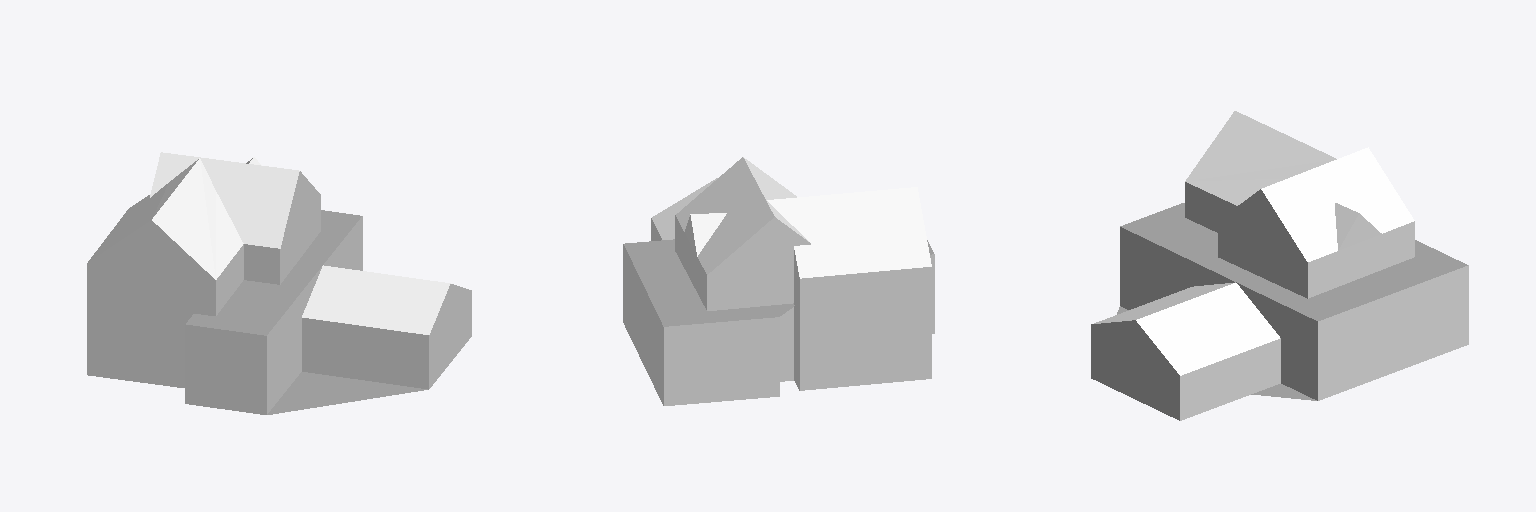
The model's file is house_Shape 303.obj.
The picture shows the model from 3 angles: view 1: azimuth 30°, elevation 25°; view 2: azimuth 150°, elevation 25°; view 3: azimuth 270°, elevation 25°; orthographic projection.
Parts seen in each view (by area): view 1: CityEngineMaterial_206, CityEngineMaterial_12, CityEngineMaterial_89, CityEngineMaterial_205; view 2: CityEngineMaterial_206, CityEngineMaterial_12, CityEngineMaterial_89, CityEngineMaterial_205; view 3: CityEngineMaterial_206, CityEngineMaterial_12, CityEngineMaterial_89, CityEngineMaterial_205.
Boxes of the visible parts, x1=… form: CityEngineMaterial_206: x1=87, y1=171, x2=471, y2=414; CityEngineMaterial_12: x1=88, y1=152, x2=450, y2=334; CityEngineMaterial_89: x1=186, y1=210, x2=427, y2=414; CityEngineMaterial_205: x1=216, y1=276, x2=428, y2=389; CityEngineMaterial_206: x1=623, y1=215, x2=931, y2=405; CityEngineMaterial_12: x1=652, y1=157, x2=931, y2=278; CityEngineMaterial_89: x1=624, y1=239, x2=933, y2=326; CityEngineMaterial_205: x1=651, y1=218, x2=934, y2=390; CityEngineMaterial_206: x1=1091, y1=182, x2=1468, y2=420; CityEngineMaterial_12: x1=1094, y1=111, x2=1414, y2=375; CityEngineMaterial_89: x1=1117, y1=203, x2=1467, y2=400; CityEngineMaterial_205: x1=1180, y1=213, x2=1280, y2=420.
Bounding box in the file's own units: 19.39 × 9.34 × 19.02.